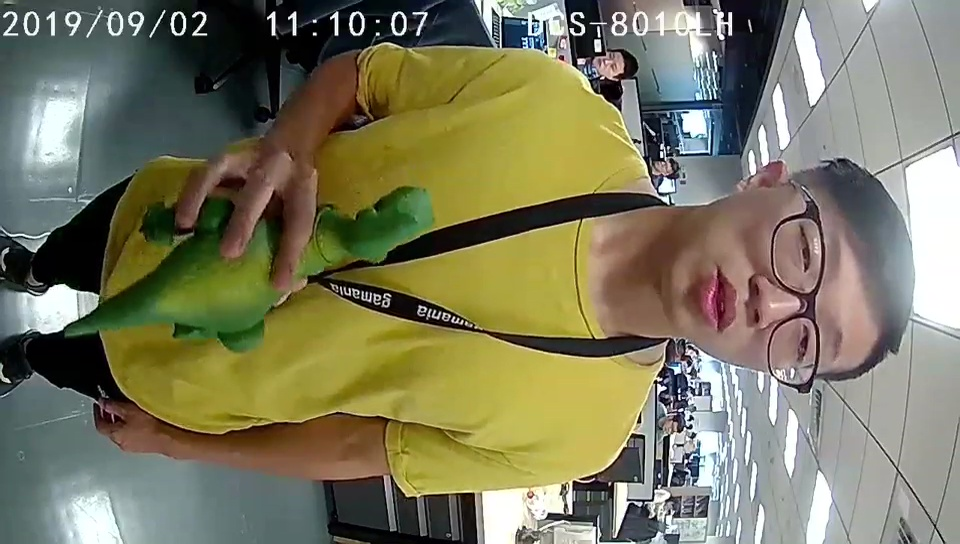rex: (174, 185, 435, 351)
